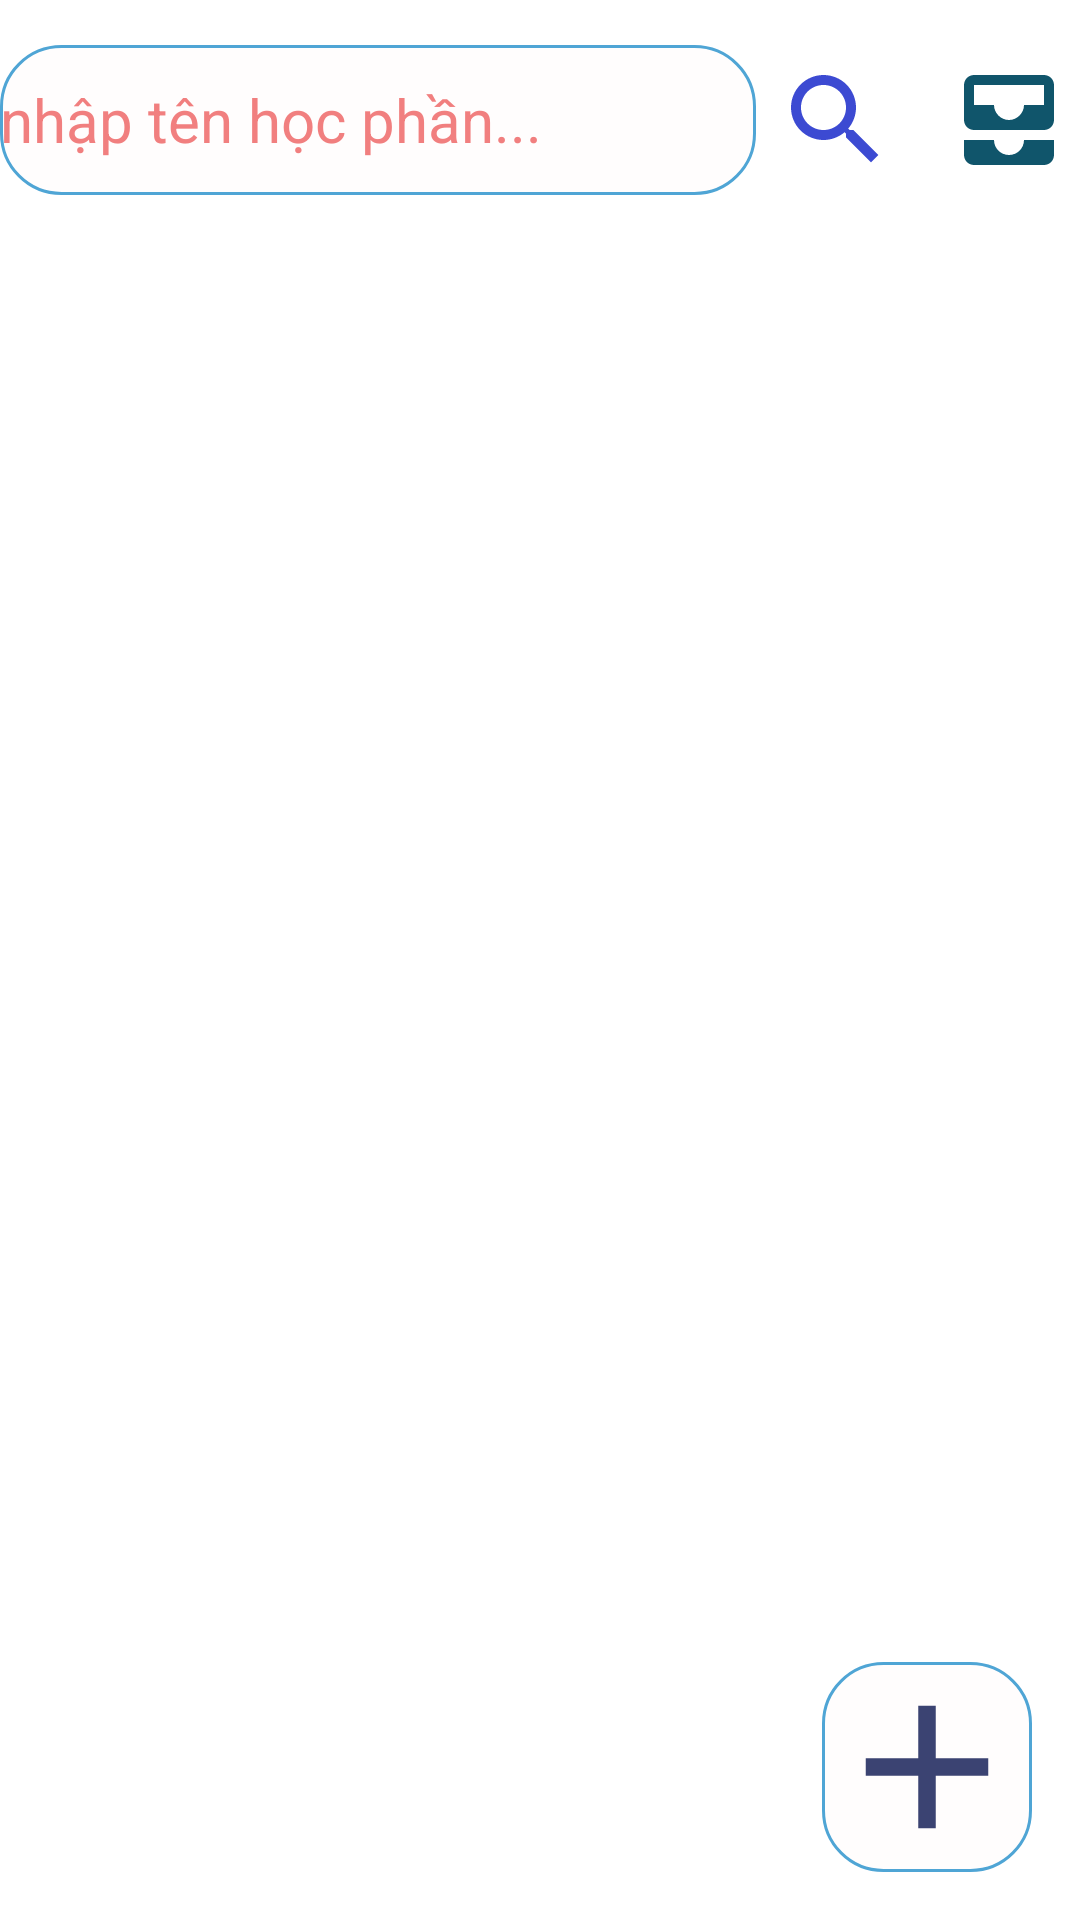

Named icons in this screenshot (1080px×1920px) and their bounding boxes, (x1, y1, x2, y2):
all inbox: (964, 75, 1054, 165)
search: (791, 75, 878, 162)
